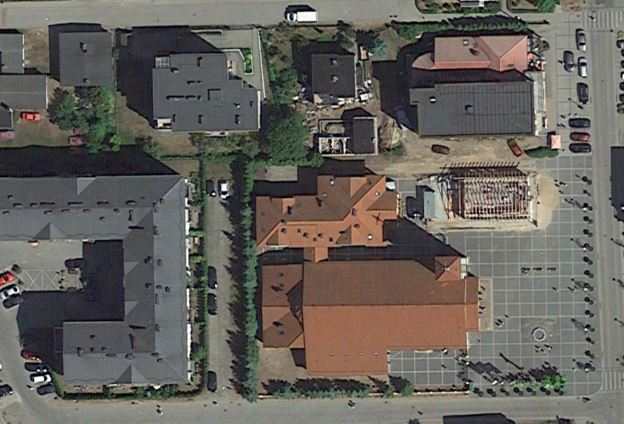block of flats: (1, 176, 201, 393), (402, 30, 550, 147), (144, 43, 265, 136), (1, 30, 53, 132), (54, 27, 115, 90), (305, 47, 370, 105)
church: (245, 249, 499, 389)
